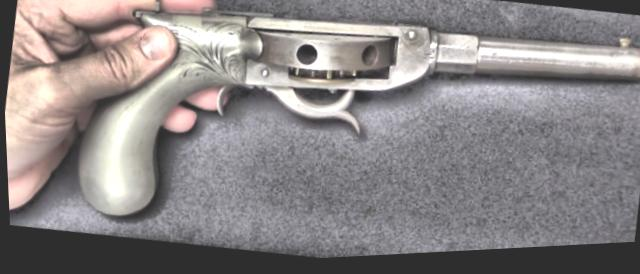pistol: (60, 0, 640, 272)
